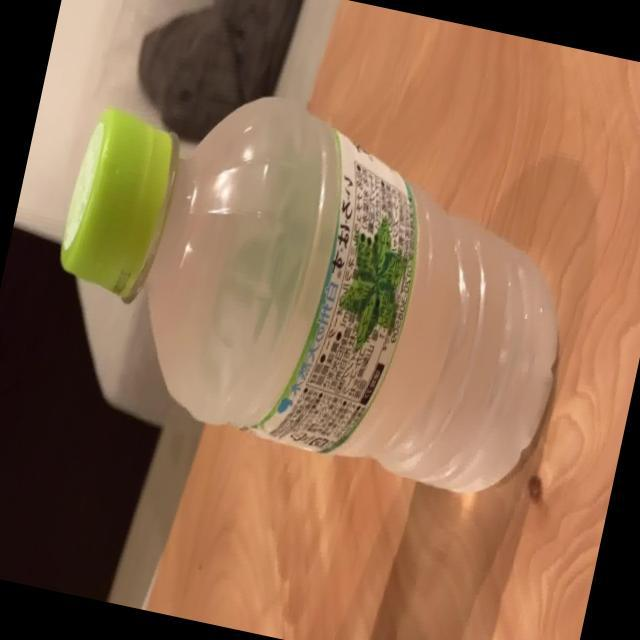good: (23, 52, 600, 512)
